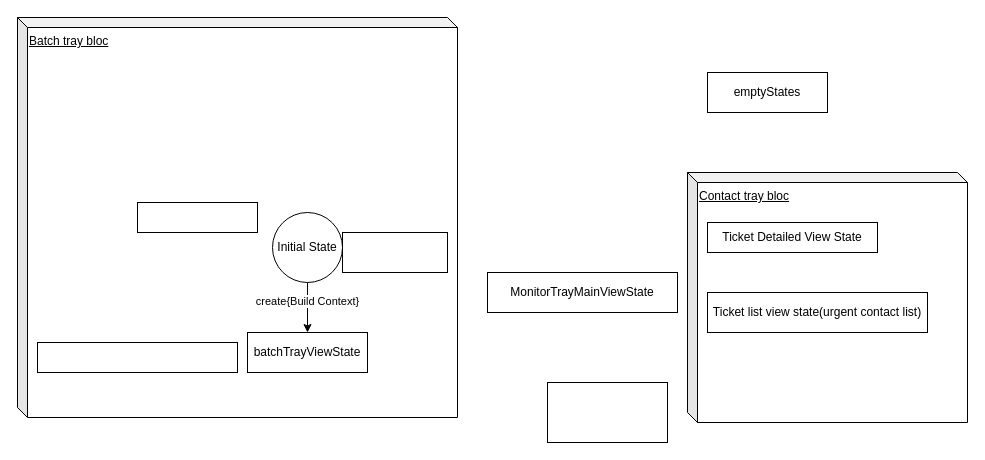
Some shapes in this 985 by 460 pixel diagram are drawn without their labels. Each missing label, with the centre of its shape:
"Batch Detailed View State" goes at (x=137, y=357).
"Batch List View State" goes at (x=197, y=217).
"batchOpenedState" goes at (x=395, y=252).
"ticketOpenedState" goes at (x=607, y=412).
